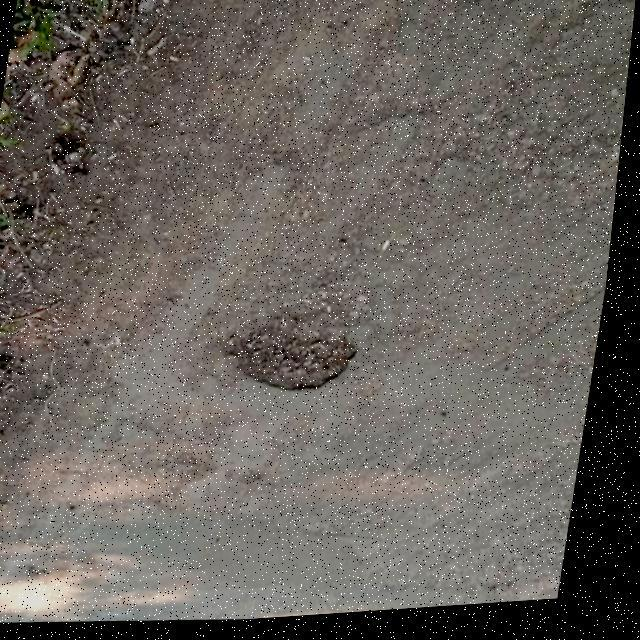pothole: (200, 284, 387, 420)
